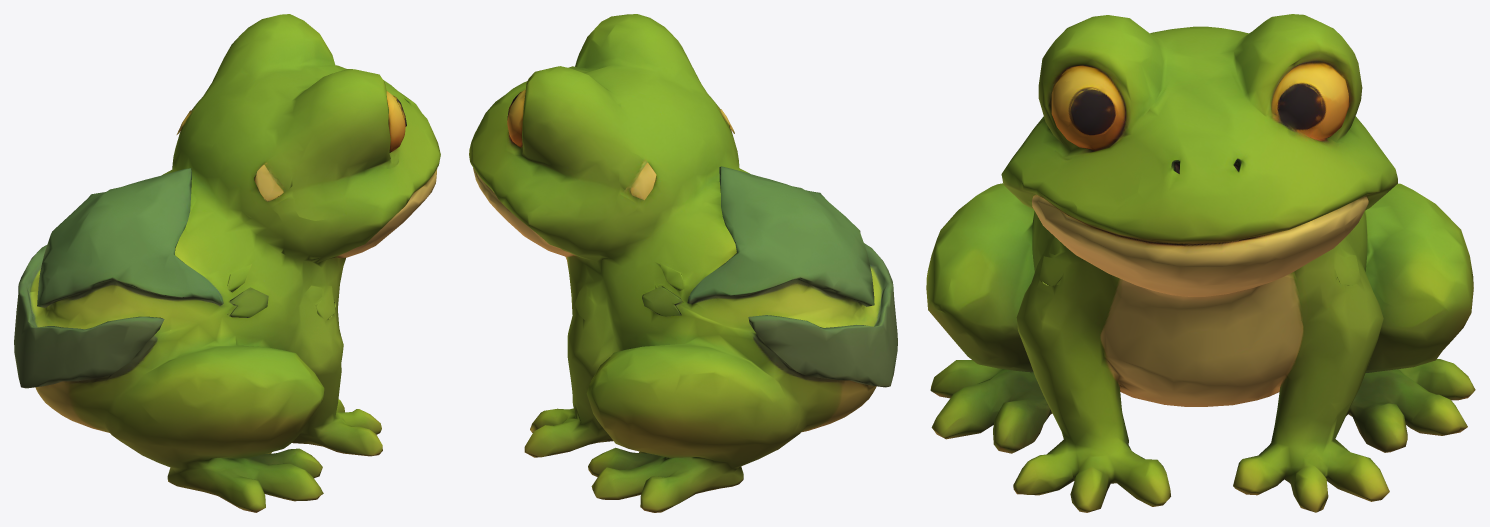
The model's file is Verdant_Frog_Guardian.glb.
3 views of the same model, side by side, from view 1: azimuth 30°, elevation 25°; view 2: azimuth 150°, elevation 25°; view 3: azimuth 270°, elevation 25° (orthographic). The views are drawn at different scales.
Visible parts, largest first — view 1: node_7fe95adc-de4d-4717-a89f-f1904e4c0552; view 2: node_7fe95adc-de4d-4717-a89f-f1904e4c0552; view 3: node_7fe95adc-de4d-4717-a89f-f1904e4c0552.
Part boxes in pixels (bbox=[...]): node_7fe95adc-de4d-4717-a89f-f1904e4c0552: bbox=[14, 14, 440, 512]; node_7fe95adc-de4d-4717-a89f-f1904e4c0552: bbox=[469, 14, 897, 512]; node_7fe95adc-de4d-4717-a89f-f1904e4c0552: bbox=[926, 14, 1475, 512].
Bounding box in the file's own units: 1 × 0.8535 × 0.8862.
Materials: 1 (1 with a texture image).
